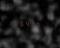eight: (33, 20, 37, 28)
four: (23, 19, 27, 27)
seven: (28, 19, 32, 28)
six: (18, 19, 22, 27)
